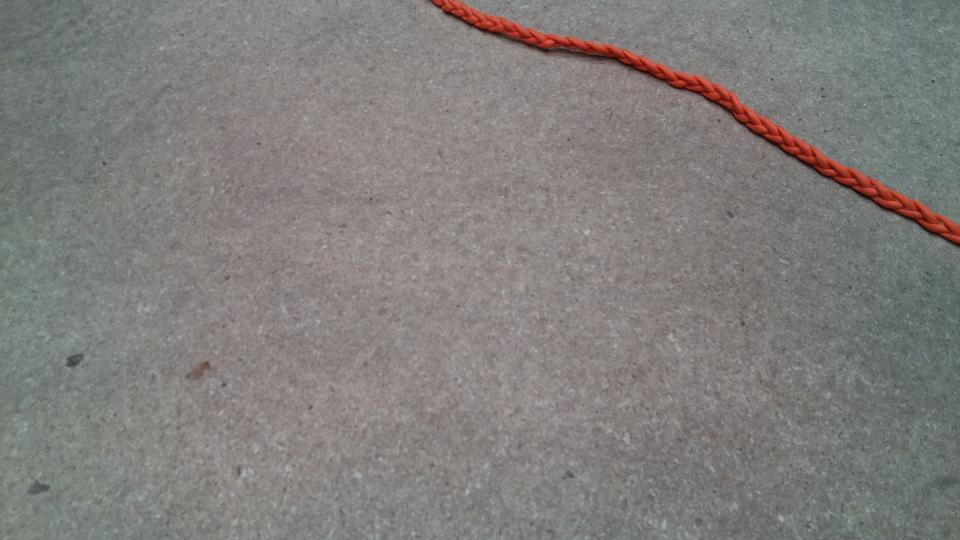rope: (455, 1, 960, 233)
